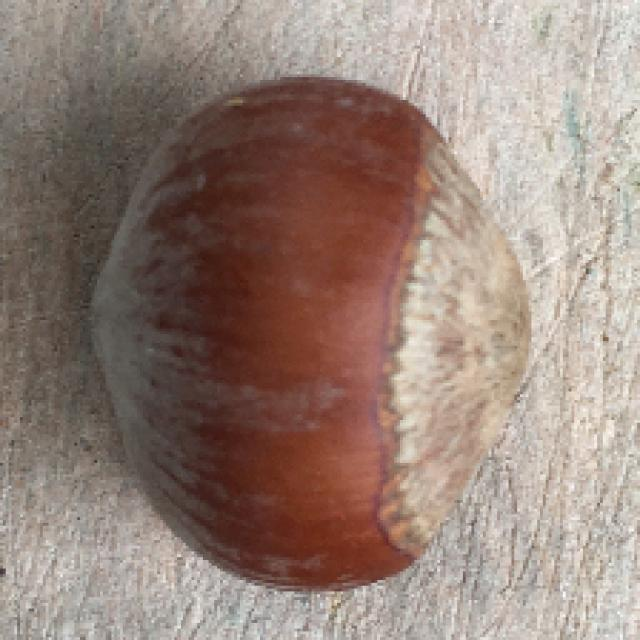qualityHazelnut: (92, 72, 536, 594)
